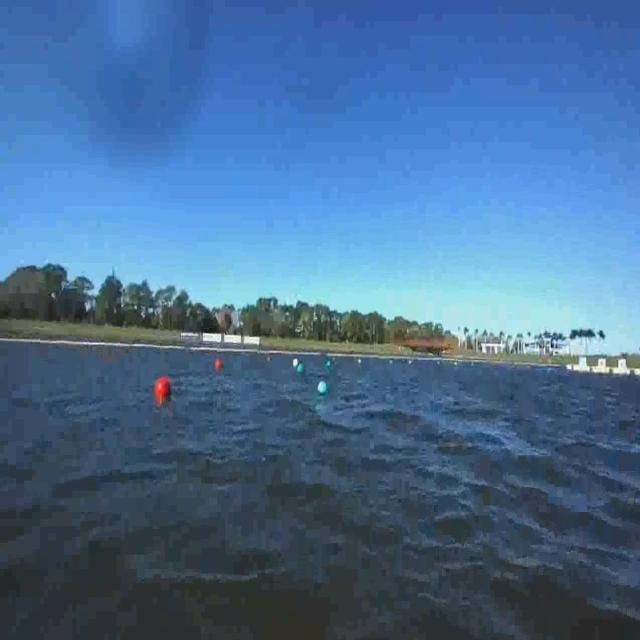green-buoy: (317, 382, 328, 396), (297, 362, 304, 373), (327, 359, 334, 368)
red-buoy: (155, 374, 171, 398), (215, 358, 222, 371)
